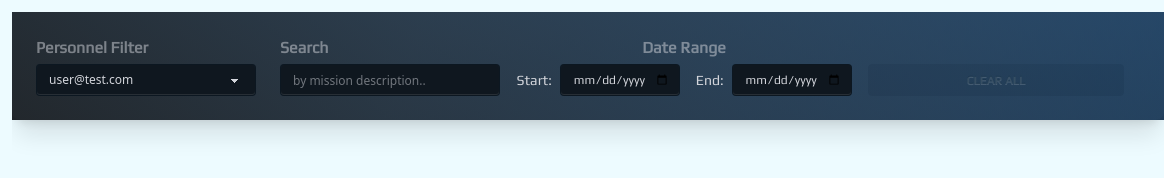
Test case: FiltersContainer › date range start input updates dateRangeFilter.start in context
Type "2025-01-15" into the date field with test id "date-range-input" next to "Start:". click: [620, 80]
box: [560,64,680,96]
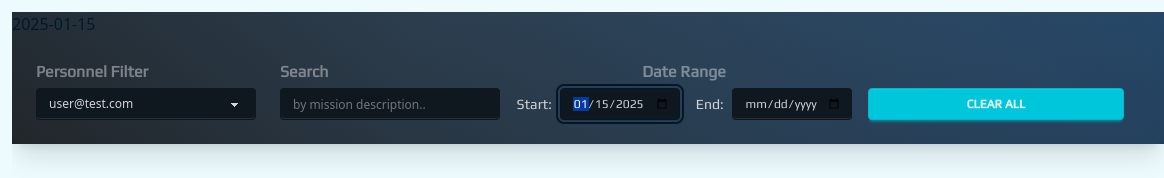
Now the text with test id "start-value" reads "2025-01-15", box [12,13,96,35]
